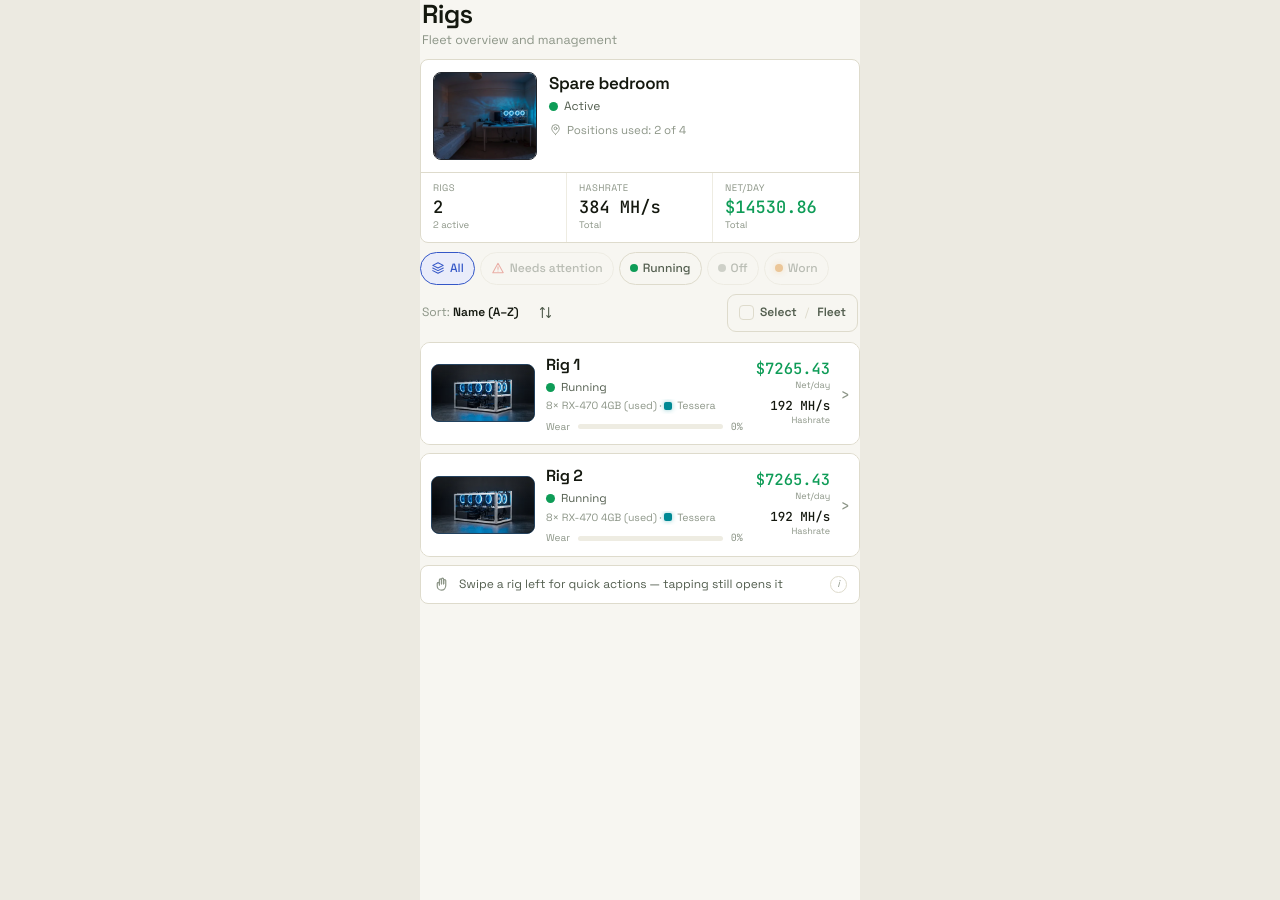
Test: RigsView › the fleet actions sheet › narrows to the ticked rigs rather than the whole site
The width and height of the screenshot is (1280, 900).
tick one row, then act on the selection
Click the button "✓ Select" at (768, 313), box top-left (733, 295), bottom-right (803, 331)
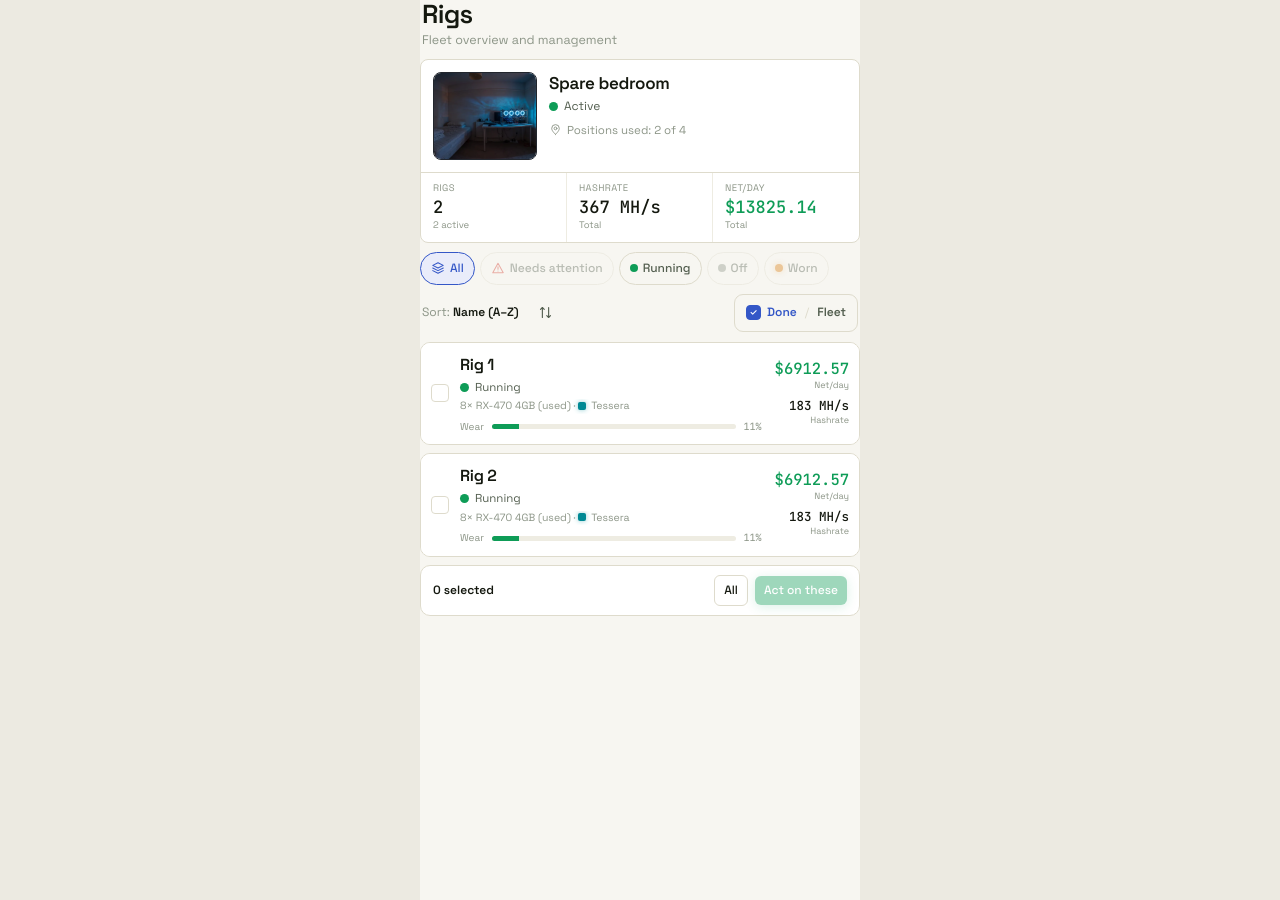
Click the button with class "rigrow" that starts with "Rig 1" at (477, 364), box top-left (421, 343), bottom-right (859, 444)
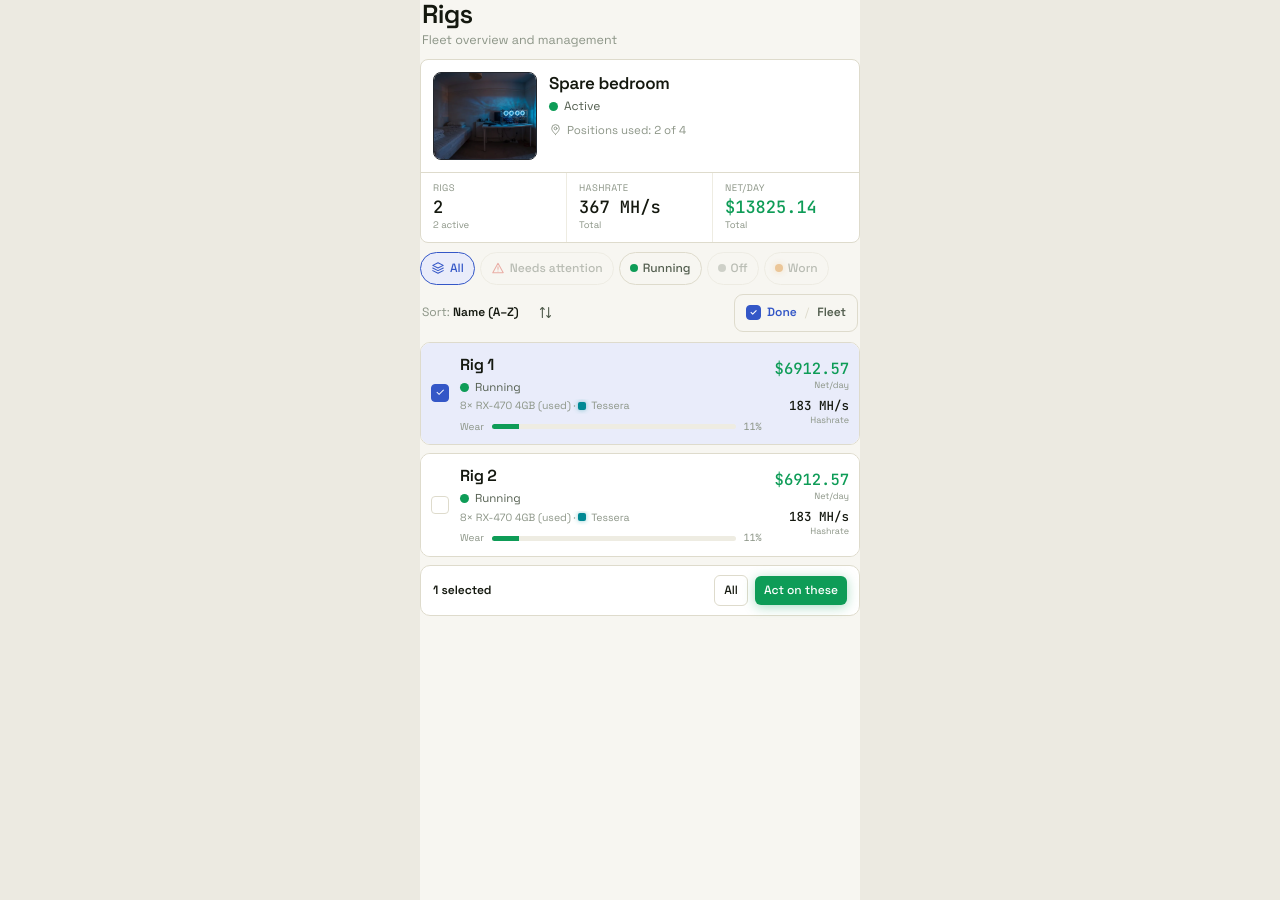
Click the button "Act on these" at (801, 590), box top-left (755, 576), bottom-right (847, 605)
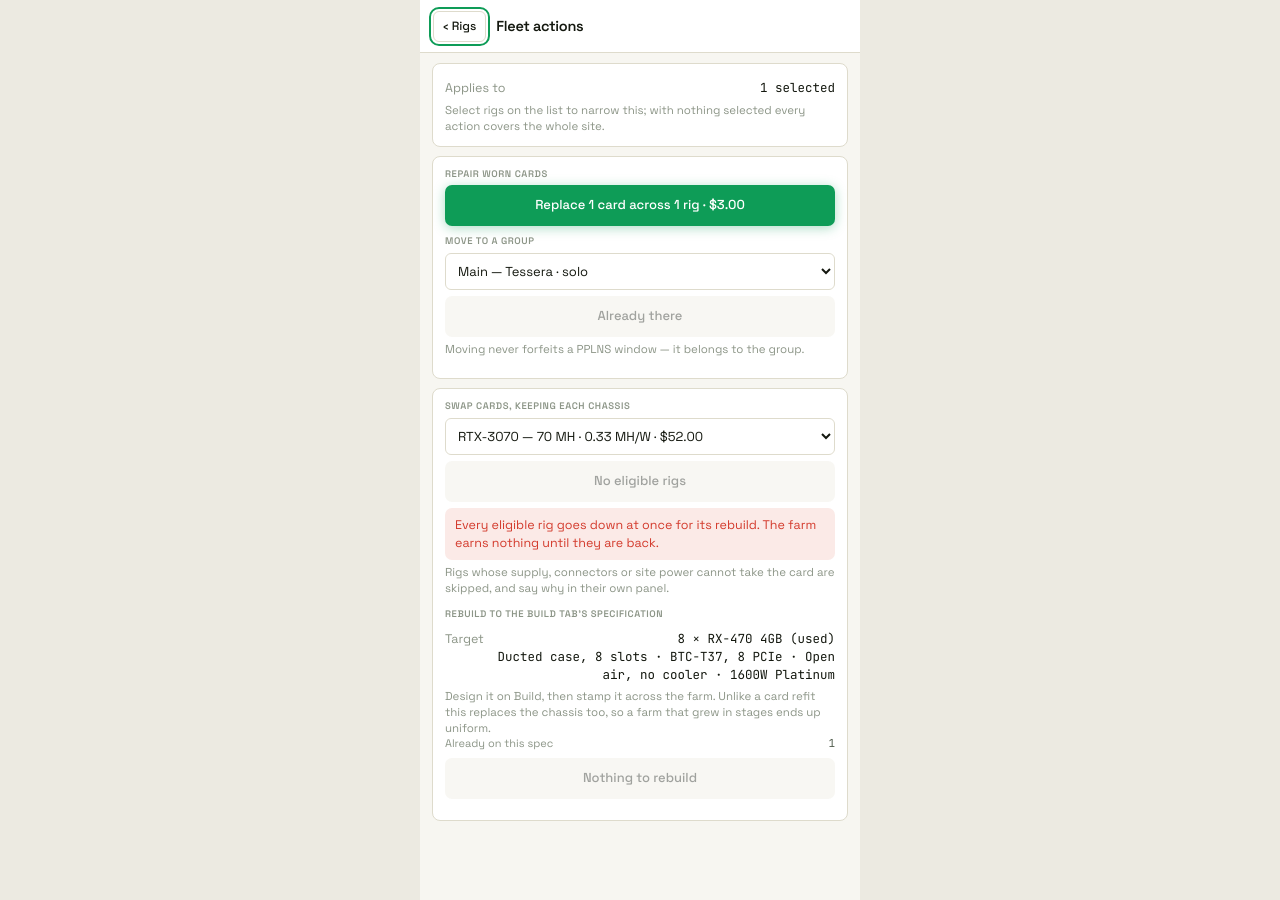
expect the text "1 selected" is shown: met, box top-left (433, 582), bottom-right (492, 598)
expect the text "Replace 1 card across 1 rig" is shown: met, box top-left (445, 186), bottom-right (835, 226)
